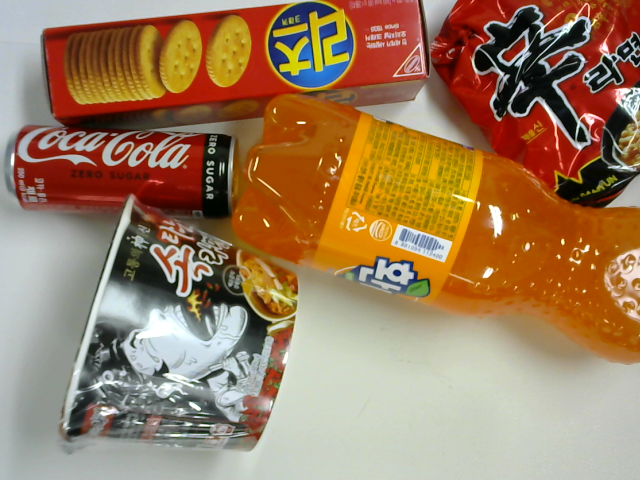Coca_Cola_Zero_Can_250ml: (2, 124, 239, 219)
HeJangsock: (58, 195, 301, 452)
Hwanta_Orange_1.5L: (231, 95, 640, 365)
Ritz_Cracker: (38, 1, 430, 127)
Sinramen: (428, 1, 640, 211)
